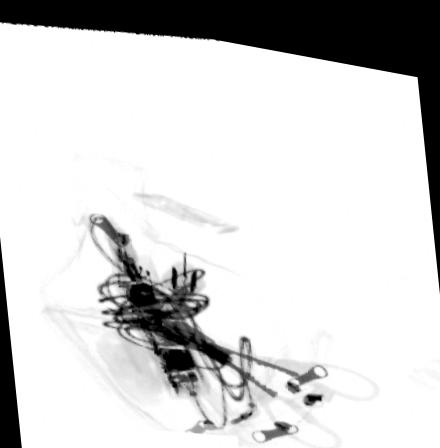Scissors: (158, 316, 379, 440)
